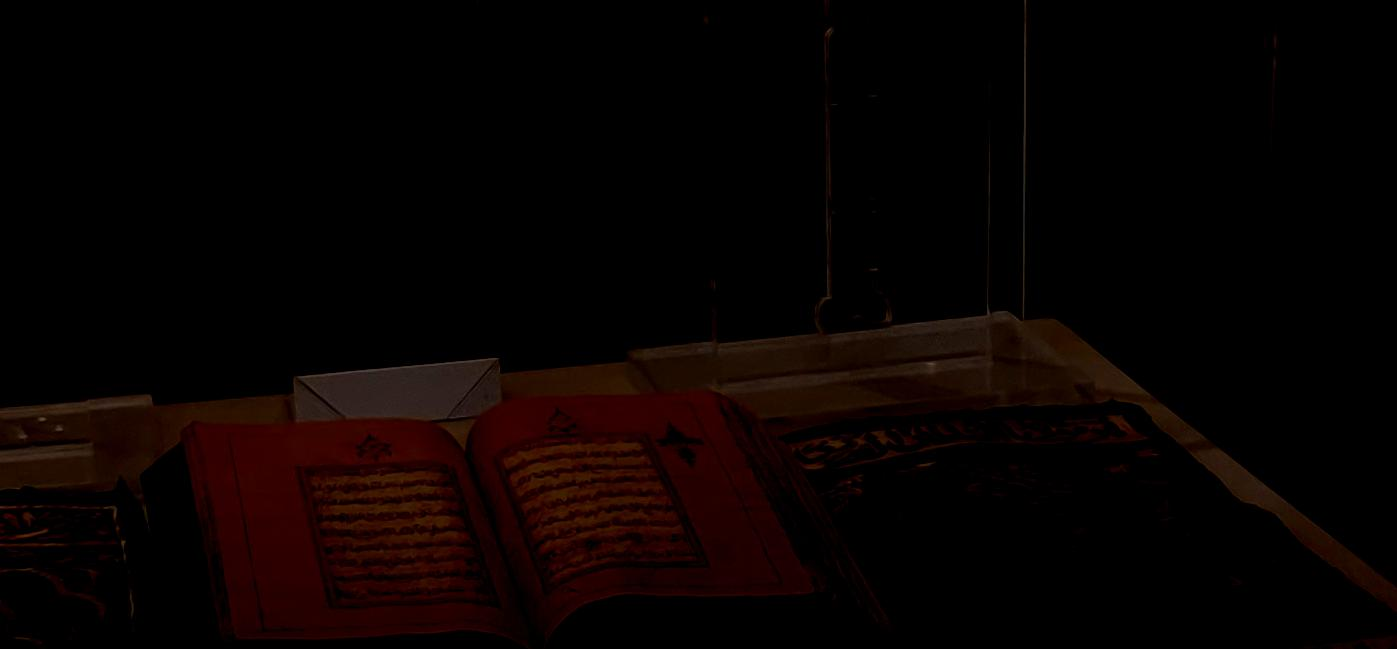The_HolyQuran: (144, 393, 874, 649)
